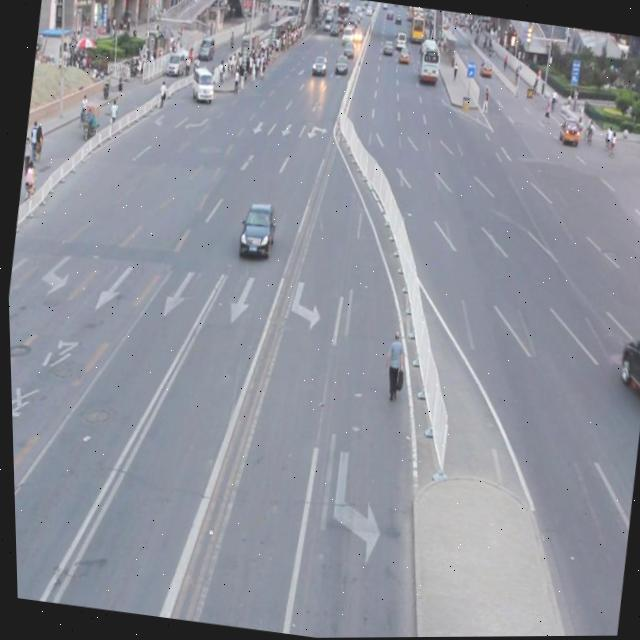car: (234, 199, 278, 261), (611, 325, 640, 412)
